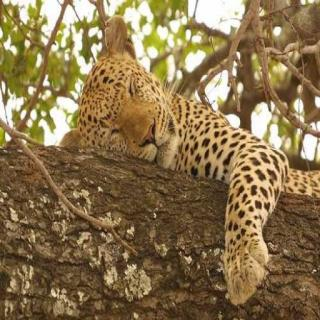Leopard: (68, 12, 295, 304)
